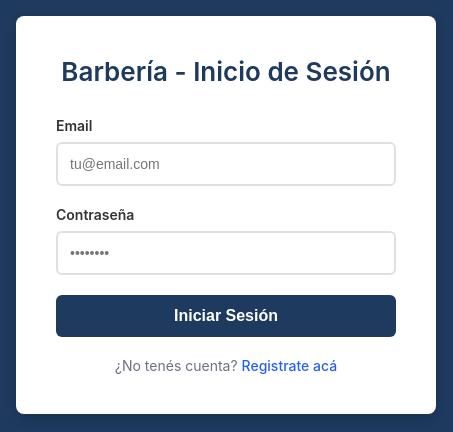
it: LoginPage › should disable inputs and button during loading
The image size is (453, 432).
Type "test@example.com" into the field labelled "Email". click: (226, 164)
box: [56,142,396,186]
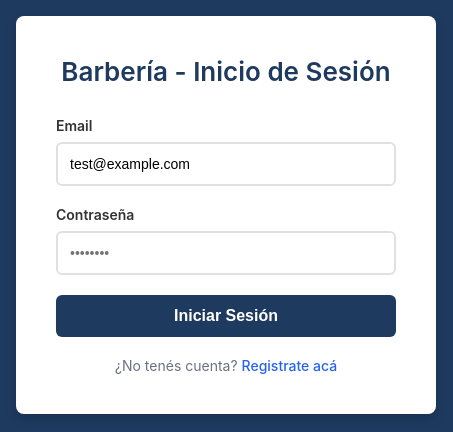
Type "password123" into the password field labelled "Contraseña". click: (226, 253)
box: [56,231,396,275]
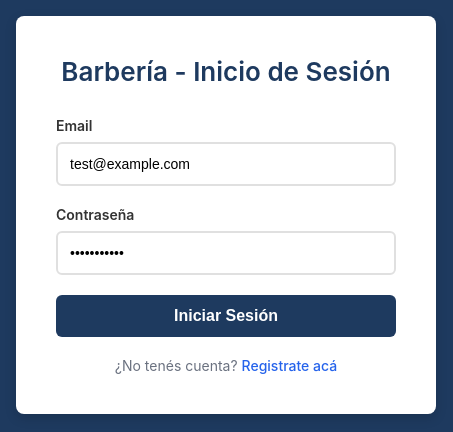
Click the button "Iniciar Sesión". click: (226, 316)
box: [56,295,396,337]
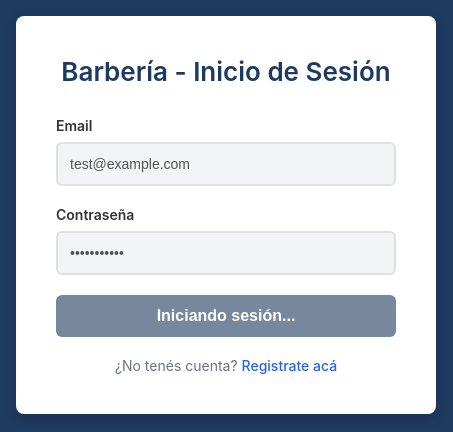
Check: the field labelled "Email" is disabled, box [56,142,396,186]
Check: the password field labelled "Contraseña" is disabled, box [56,231,396,275]
Check: the button named "Iniciar Sesión" is disabled, box [56,295,396,337]
